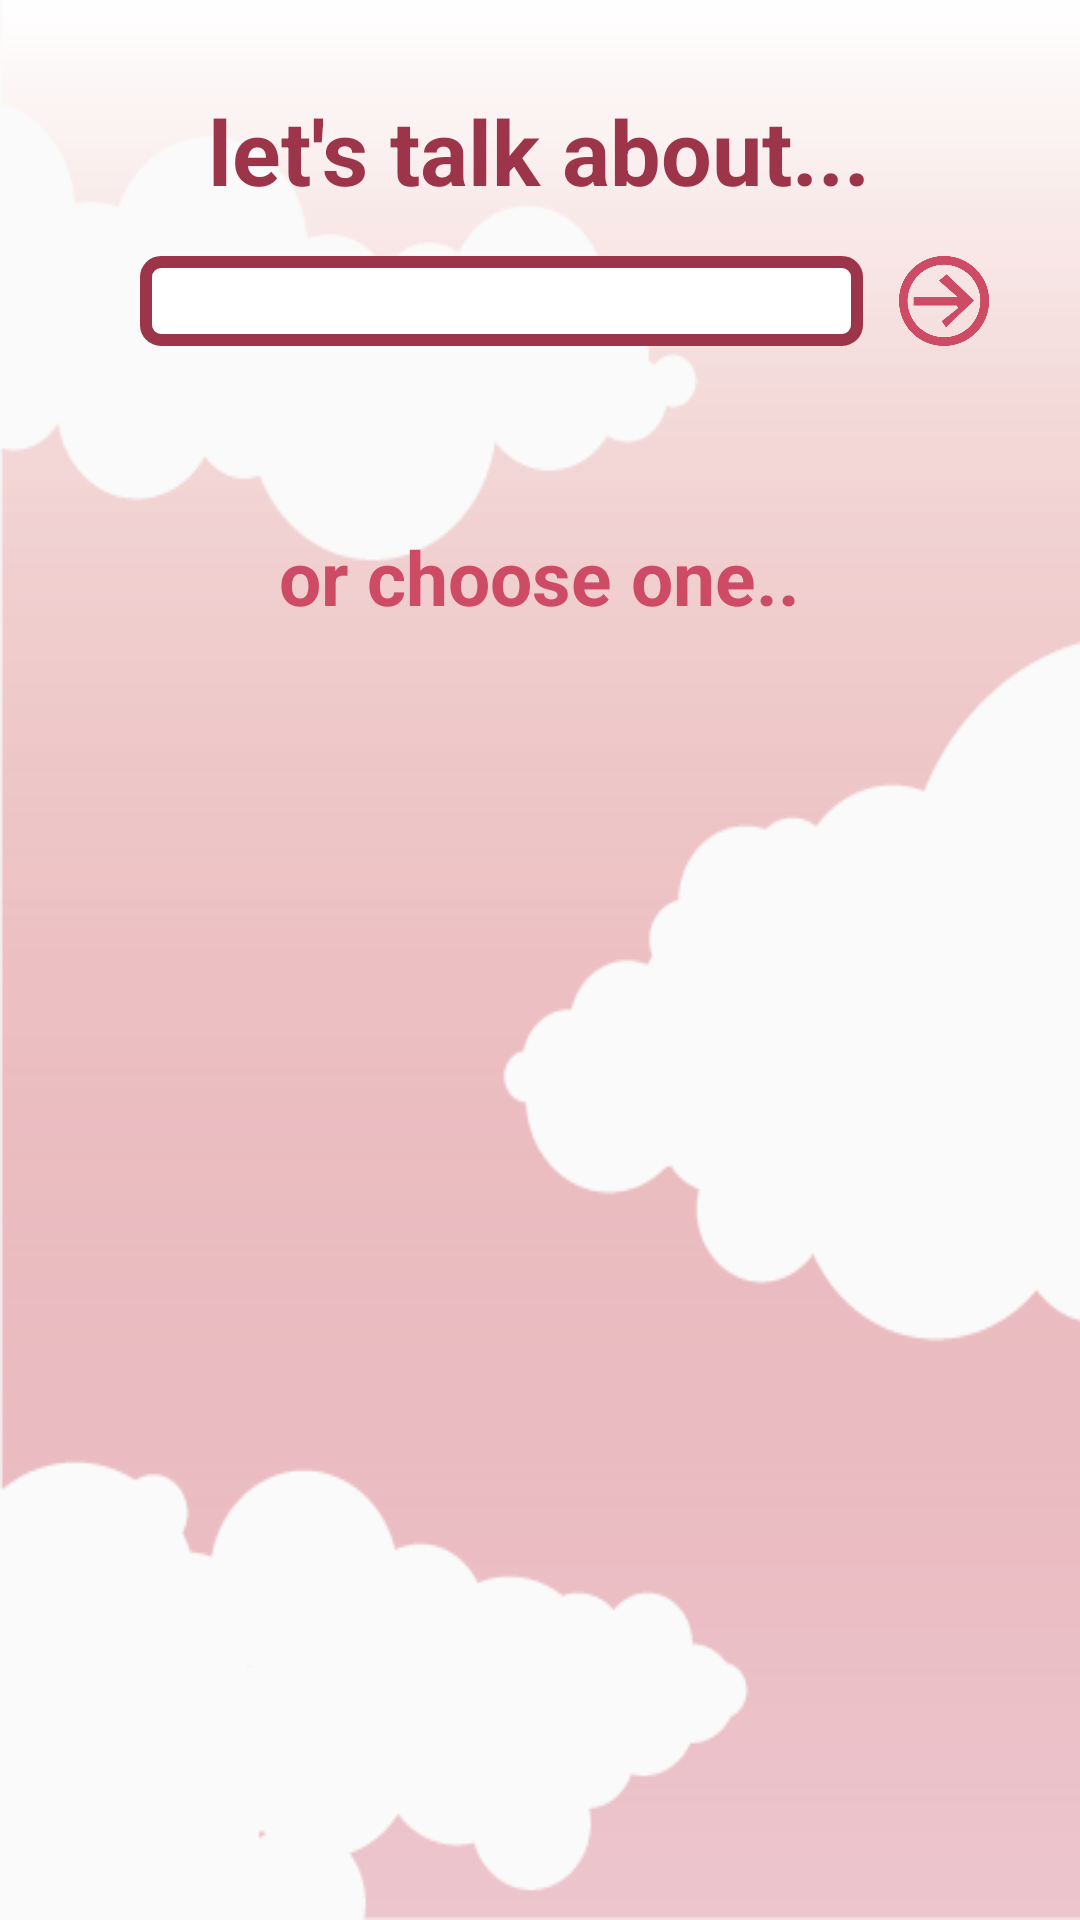

Icon click points for this 1080*1920 phone screenshot, format point (x, y):
gobutton: point (944, 301)
